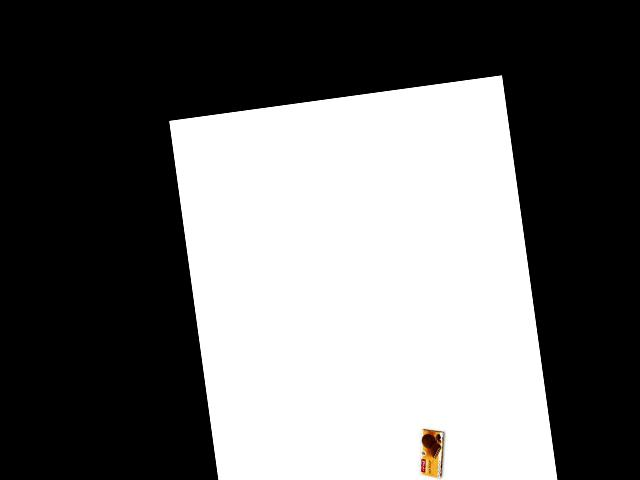chocolate: (414, 423, 446, 480)
